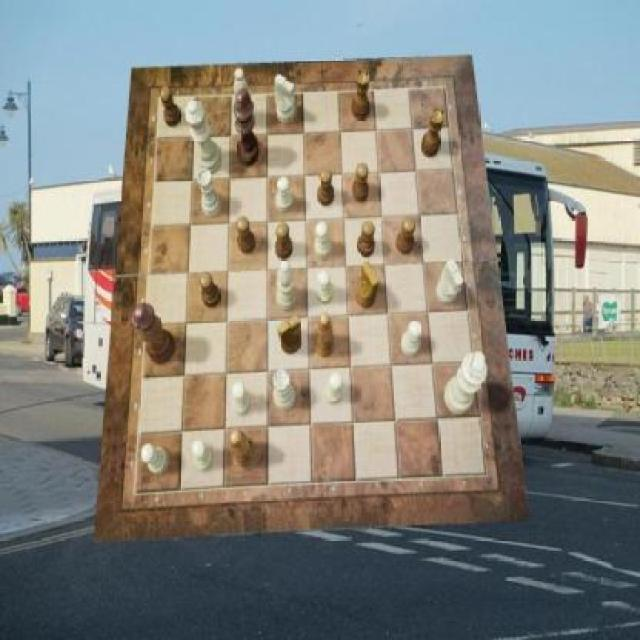bishop: (231, 429, 257, 468), (316, 312, 336, 358)
black-bishop: (234, 88, 258, 168)
black-king: (356, 262, 380, 309), (277, 314, 301, 354)
black-knight: (158, 88, 181, 128), (198, 272, 221, 308), (237, 217, 257, 255), (397, 217, 417, 255), (352, 163, 370, 202), (357, 220, 375, 258), (318, 169, 336, 207), (275, 222, 293, 259)
black-pawn: (132, 303, 177, 365)
black-queen: (422, 108, 446, 158), (352, 69, 370, 120)
black-rook: (233, 69, 254, 131), (276, 260, 296, 311)
white-bishop: (444, 351, 488, 413)
white-king: (437, 258, 465, 304), (276, 74, 296, 123)
white-knight: (142, 443, 169, 475), (400, 319, 422, 356), (192, 438, 215, 472), (232, 382, 252, 416), (275, 177, 293, 213), (314, 222, 331, 260), (315, 269, 333, 304), (325, 370, 342, 404)
white-pawn: (186, 100, 222, 175)
white-queen: (197, 170, 221, 218), (274, 369, 297, 411)
